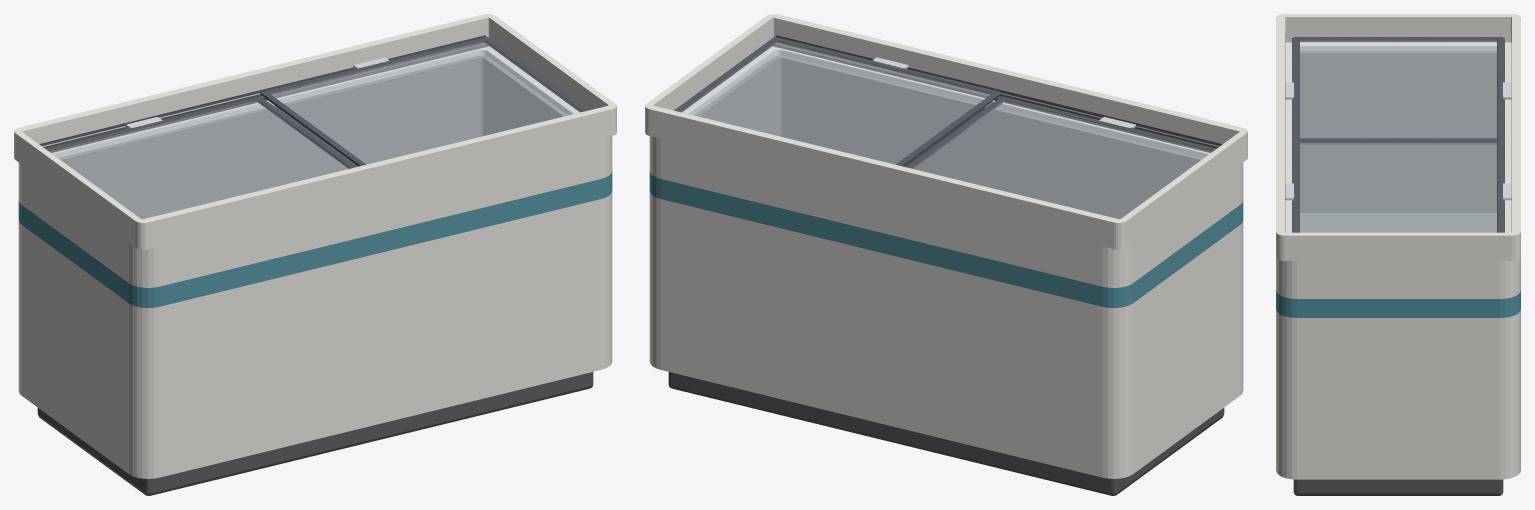
The model's file is chest_freezer.glb.
3 views of the same model, side by side, from view 1: azimuth 30°, elevation 25°; view 2: azimuth 150°, elevation 25°; view 3: azimuth 270°, elevation 25° (orthographic). The views are drawn at different scales.
Visible parts, largest first — view 1: chest_freezer.001, lid_right, lid_left; view 2: chest_freezer.001, lid_right, lid_left; view 3: chest_freezer.001, lid_left, lid_right.
Boxes of the visible parts, x1,y1,x2,y2 form: chest_freezer.001: (14, 14, 616, 495); lid_right: (260, 36, 587, 166); lid_left: (45, 96, 356, 218); chest_freezer.001: (645, 14, 1247, 495); lid_right: (674, 36, 1001, 166); lid_left: (905, 96, 1216, 218); chest_freezer.001: (1276, 14, 1520, 495); lid_left: (1285, 37, 1511, 144); lid_right: (1285, 138, 1511, 232).
Size of what is drawn, in the model's own units: 1.5 by 0.85 by 0.7.
7 materials, 1 textured.
